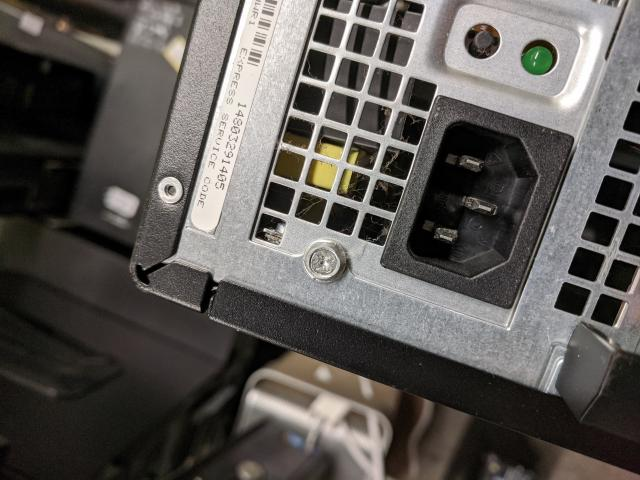CRS: (304, 241, 346, 281)
